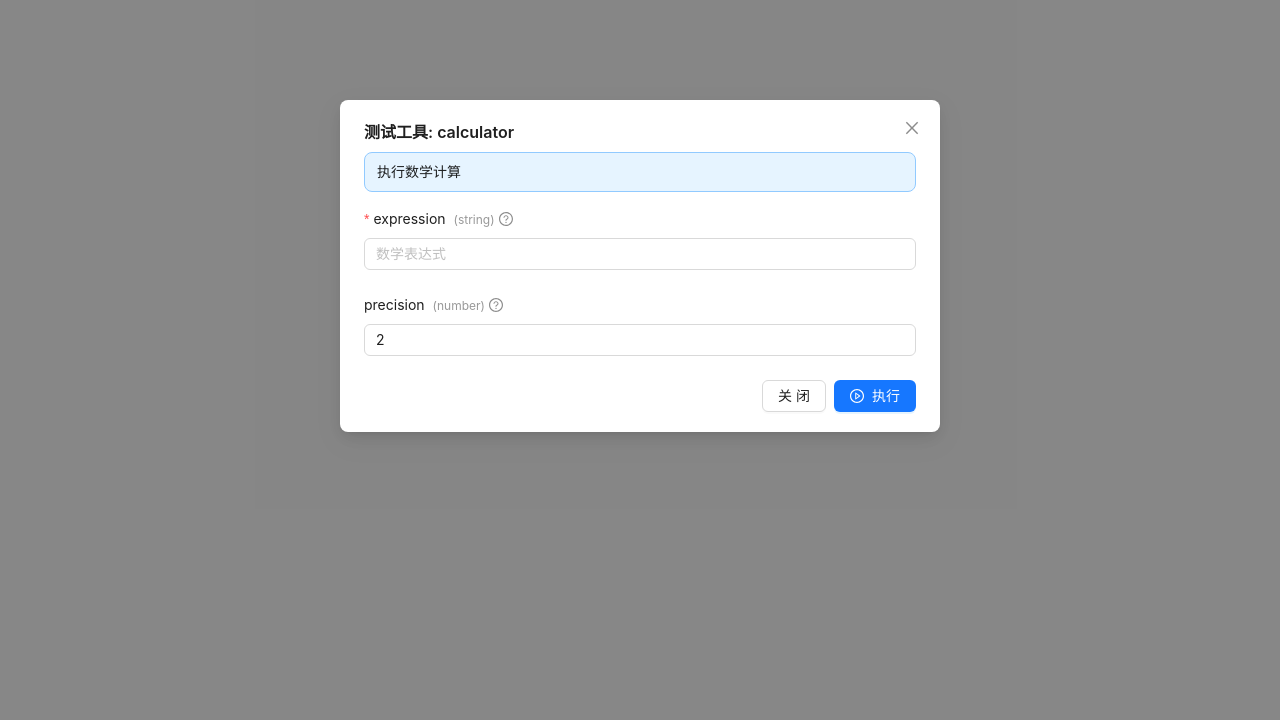
ToolExecuteModal 执行功能 › 应该验证必填参数
The width and height of the screenshot is (1280, 720).
不填写任何内容直接执行
What coordinates should you click on to do the following:
click the button "执行"
I would click on:
 (875, 396)
Its box is 834,380 -> 916,412.
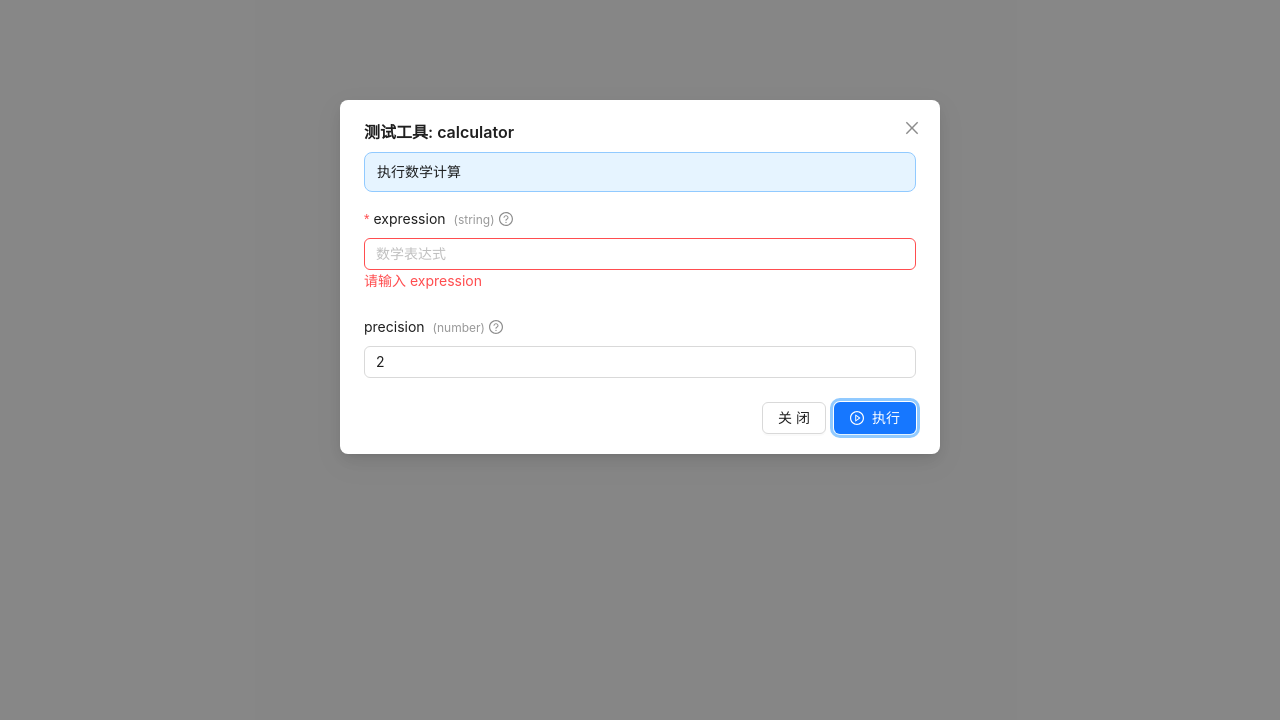
Now the text "请输入 expression" is shown, box 364,272 -> 482,289
